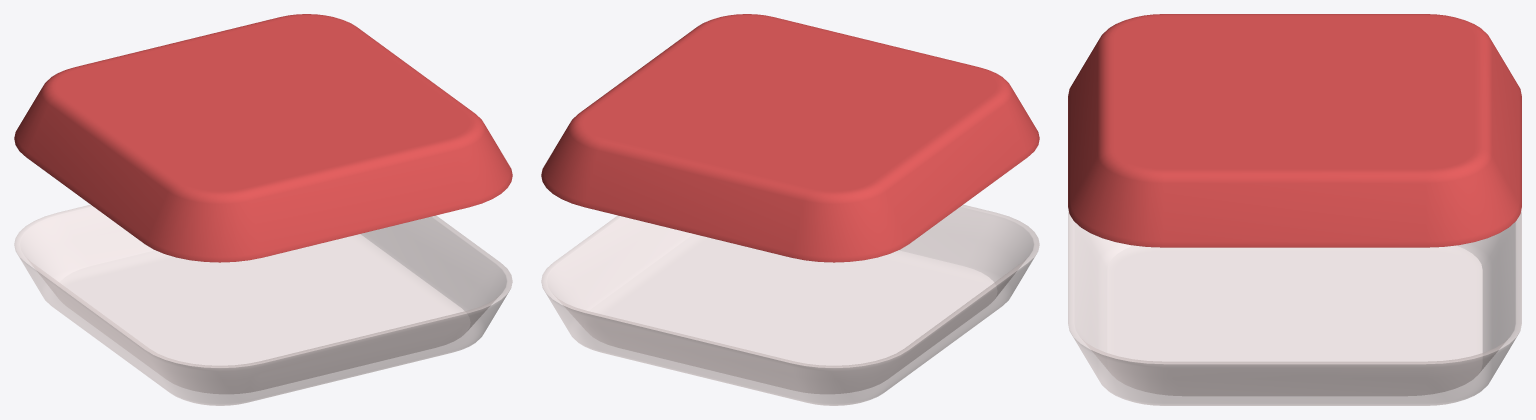
File: model_ani.glb
3 renders of one model, left to right at view 1: azimuth 30°, elevation 25°; view 2: azimuth 150°, elevation 25°; view 3: azimuth 270°, elevation 25°, orthographic. The views are drawn at different scales.
Parts seen in each view (by area): view 1: Top, Bottom; view 2: Top, Bottom; view 3: Top, Bottom.
Boxes of the visible parts, box(x1,y1,x2,y2) form: Top: box(14, 14, 512, 262); Bottom: box(14, 204, 512, 405); Top: box(541, 14, 1039, 262); Bottom: box(541, 204, 1039, 405); Top: box(1068, 14, 1521, 247); Bottom: box(1068, 211, 1521, 405).
Bounding box in the file's own units: 0.1398 × 0.0795 × 0.1398.
